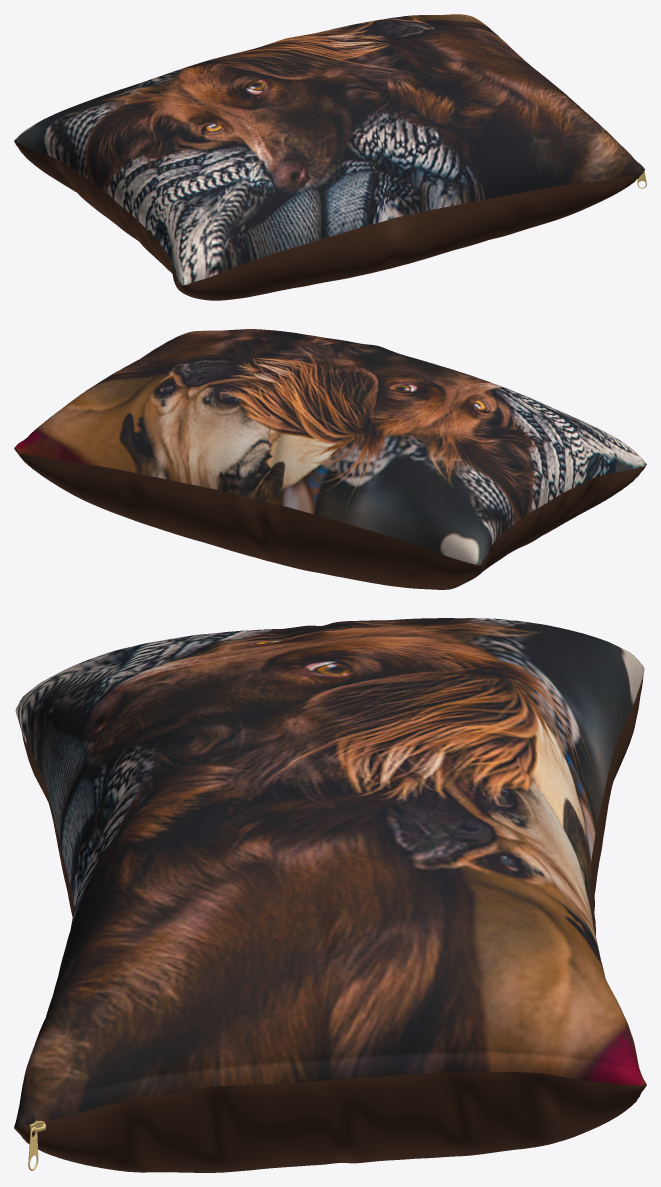
The model's file is EEVEE3js.gltf.
3 views of the same model, one above another, from view 1: azimuth 30°, elevation 25°; view 2: azimuth 150°, elevation 25°; view 3: azimuth 270°, elevation 25° (orthographic). The views are drawn at different scales.
Visible parts, largest first — view 1: 18x28 Indoors; view 2: 18x28 Indoors; view 3: 18x28 Indoors.
Boxes of the visible parts, x1,y1,x2,y2 form: 18x28 Indoors: (14, 14, 645, 300); 18x28 Indoors: (14, 329, 646, 589); 18x28 Indoors: (14, 618, 646, 1172).
Bounding box in the file's own units: 0.6756 × 0.2512 × 0.4216.
3 materials, 1 textured.
